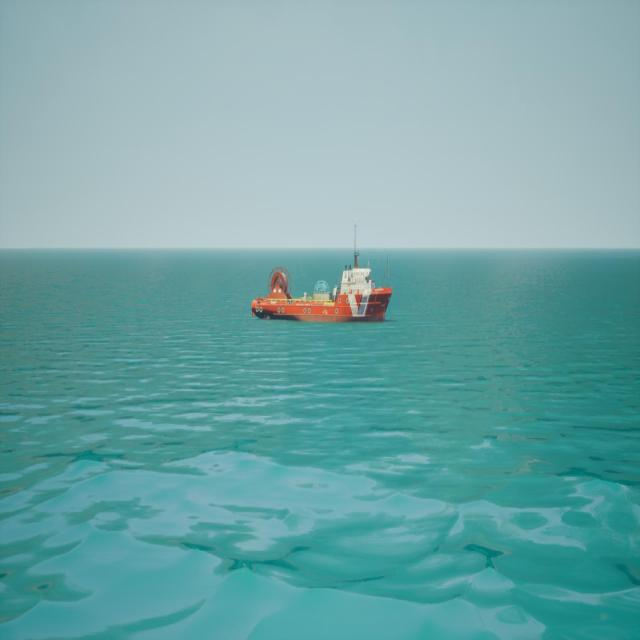tug boat: (252, 222, 394, 325)
